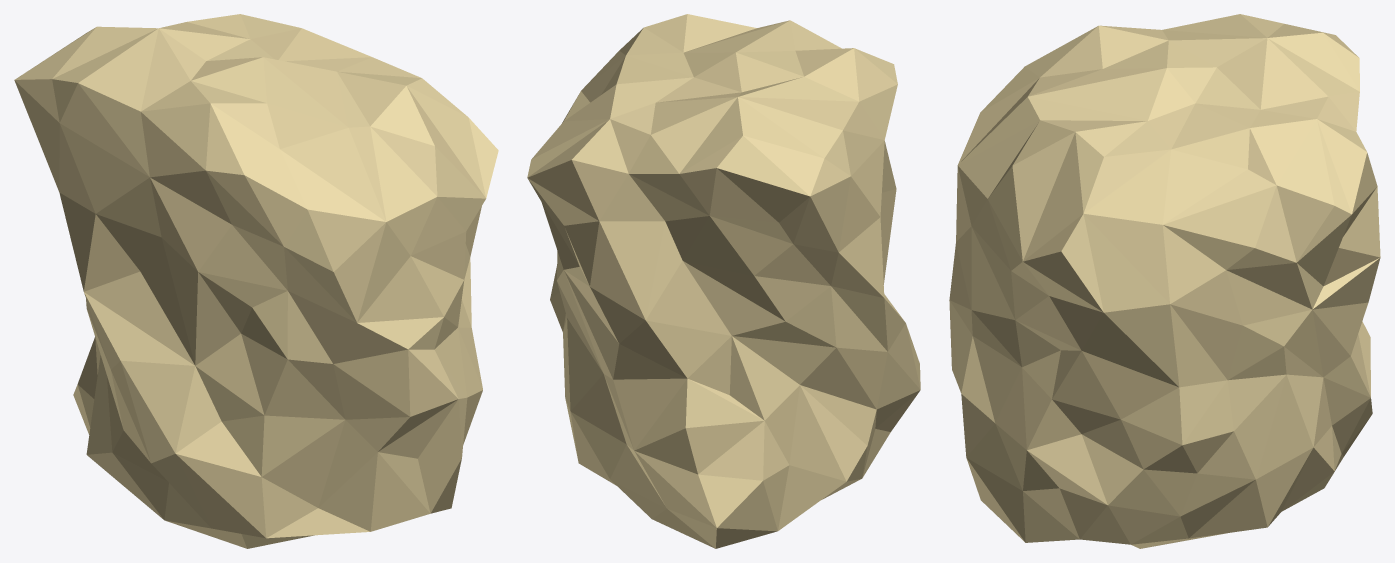
The model's file is Asteroid (80).fbx.
3 views of the same model, side by side, from view 1: azimuth 30°, elevation 25°; view 2: azimuth 150°, elevation 25°; view 3: azimuth 270°, elevation 25° (orthographic). The views are drawn at different scales.
Visible parts, largest first — view 1: Asteroid185; view 2: Asteroid185; view 3: Asteroid185.
Boxes of the visible parts, bbox=[...] form: Asteroid185: bbox=[14, 14, 498, 548]; Asteroid185: bbox=[527, 14, 920, 548]; Asteroid185: bbox=[949, 14, 1380, 548].
Size of the model in its own units: 440 by 555 by 470.
